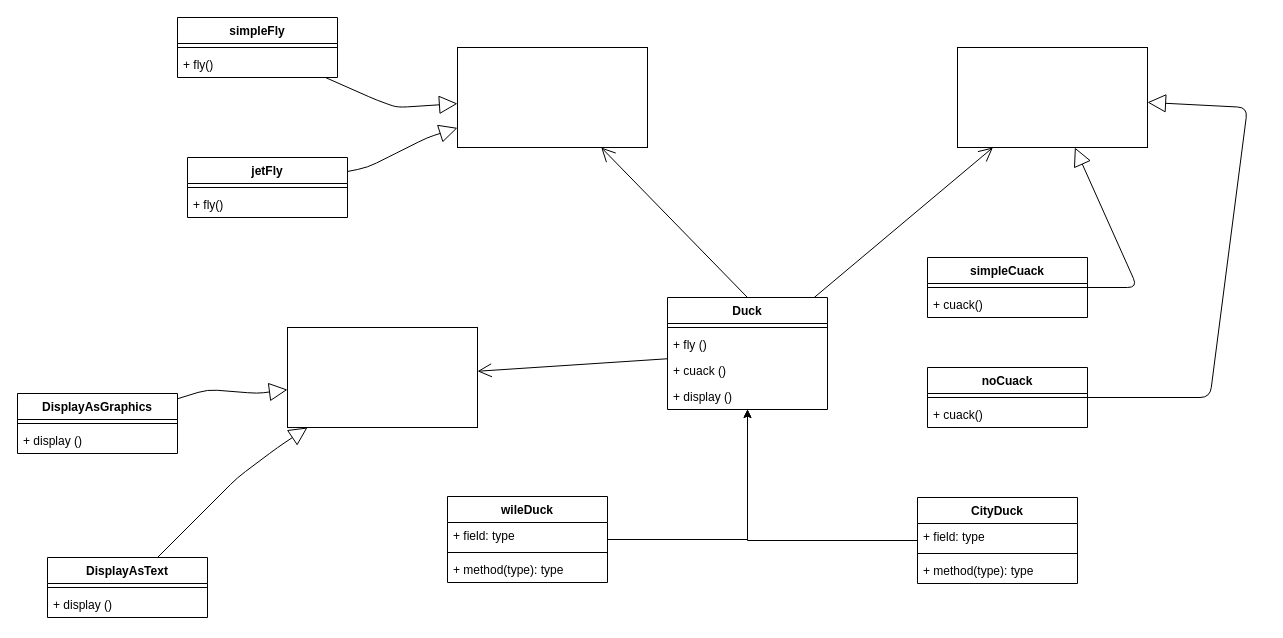
The diagram is 1283 pixels wide and 638 high, and some of its shapes have lost their labels. Each missing label, with the centre of its shape:
<<Interface>> ICuackBehavior + cuack(): (x=1052, y=97)
<<Interface>> IDisplay + display (): (x=382, y=377)
<<Interface>> IFlyBehavior + fly(): (x=552, y=97)
